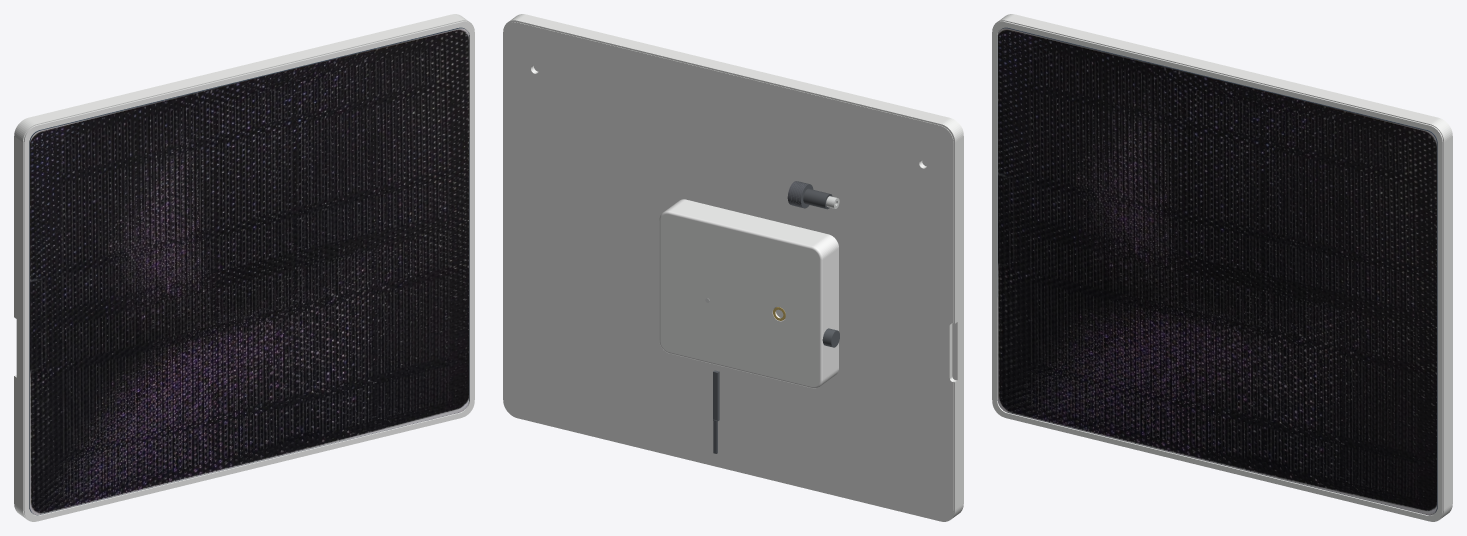
Rendered from solar-panel.glb.
The picture shows the model from 3 angles, left to right: view 1: azimuth 30°, elevation 25°; view 2: azimuth 150°, elevation 25°; view 3: azimuth 330°, elevation 25°; orthographic projection.
Visible parts, largest first — view 1: 00_celdas_textura_fotografica, 03_reborde_perimetral, 01_carcasa_blanca, 02_celda_fotovoltaica_negra; view 2: 04_junta_posterior, 05_caja_conexiones_trasera, 01_carcasa_blanca; view 3: 00_celdas_textura_fotografica, 03_reborde_perimetral, 01_carcasa_blanca, 02_celda_fotovoltaica_negra.
Boxes of the visible parts, bbox=[...] form: 00_celdas_textura_fotografica: bbox=[30, 28, 469, 514]; 03_reborde_perimetral: bbox=[23, 21, 474, 521]; 01_carcasa_blanca: bbox=[14, 14, 474, 521]; 02_celda_fotovoltaica_negra: bbox=[29, 27, 469, 515]; 04_junta_posterior: bbox=[504, 22, 953, 520]; 05_caja_conexiones_trasera: bbox=[659, 199, 838, 388]; 01_carcasa_blanca: bbox=[503, 14, 963, 521]; 00_celdas_textura_fotografica: bbox=[997, 28, 1436, 514]; 03_reborde_perimetral: bbox=[992, 21, 1443, 521]; 01_carcasa_blanca: bbox=[992, 14, 1452, 521]; 02_celda_fotovoltaica_negra: bbox=[997, 27, 1437, 515].
Size of the model in its own units: 213 by 179 by 22.33.
Materials: 11 (1 with a texture image).
